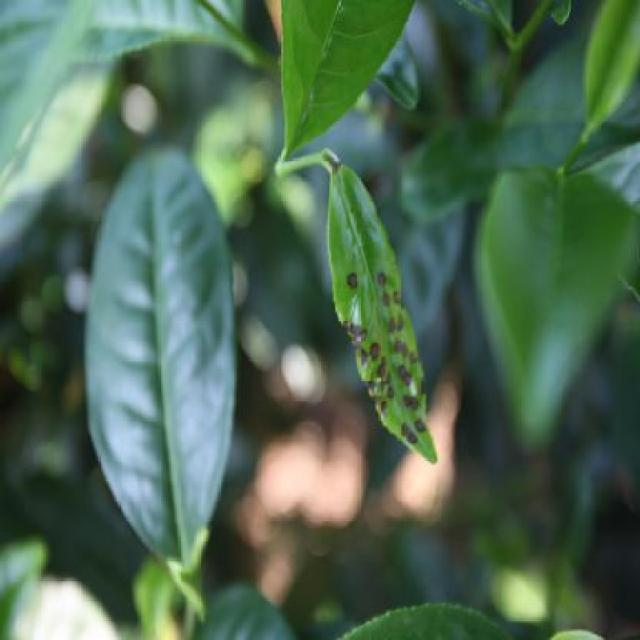Tea Mosquito bug infested leaf: (329, 168, 442, 477)
